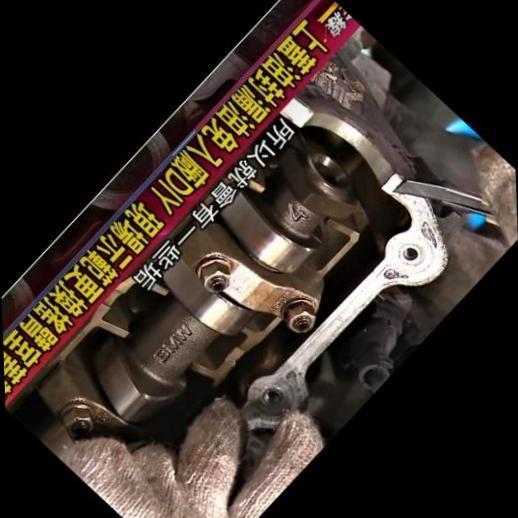hole: (256, 382, 284, 409), (397, 242, 420, 264)
